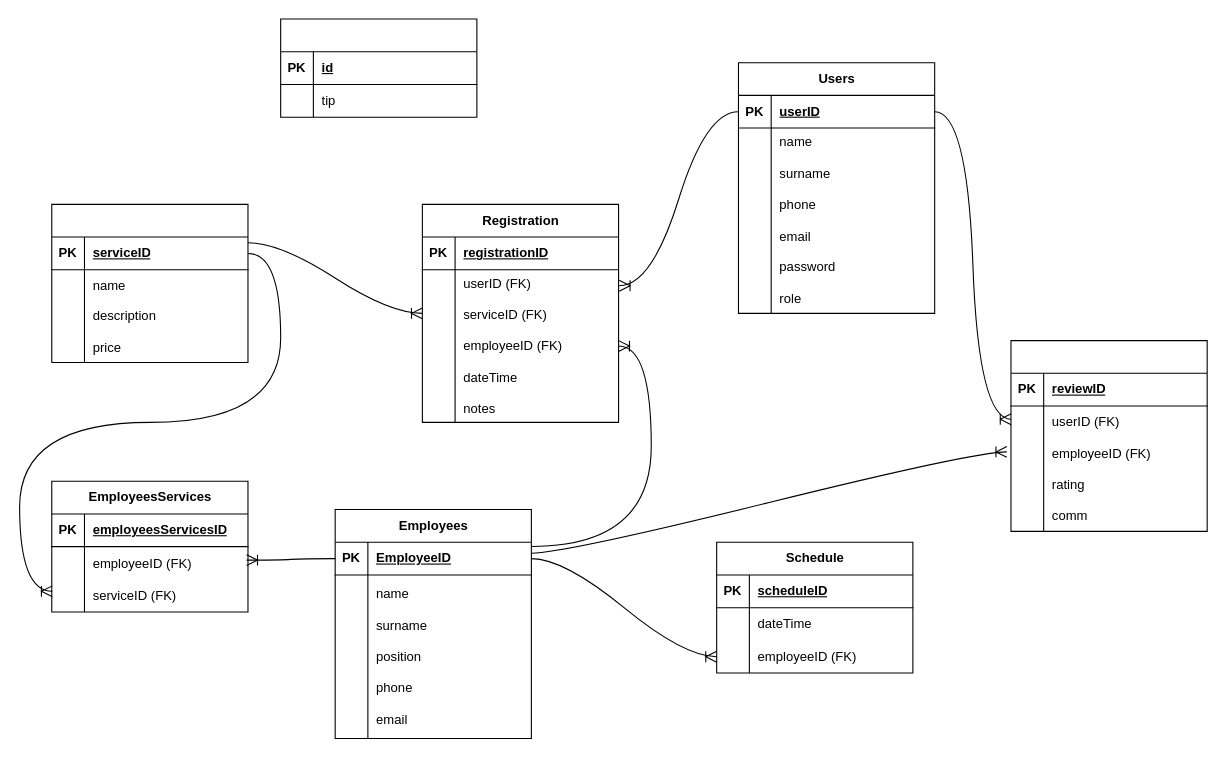
Image size: 1226x758. Some labels were removed from this diagram. Here are the shapes that lost their labels. From the top down, the box of each, then its label:
(280, 18, 477, 117): Tips
(51, 203, 248, 362): Services
(1010, 340, 1207, 531): Reviews
